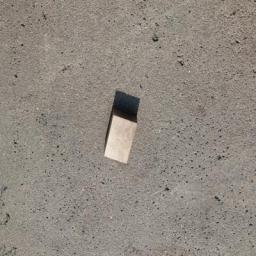FOD: (104, 89, 143, 169)
